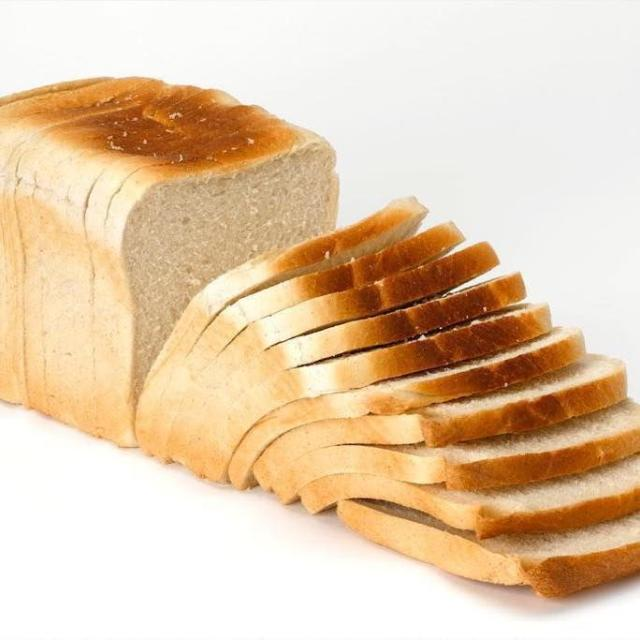sliced bread: (0, 77, 338, 446), (138, 230, 525, 480), (136, 205, 423, 443), (230, 328, 584, 489), (204, 305, 549, 444), (338, 501, 639, 596), (303, 455, 639, 538), (410, 355, 626, 446), (430, 400, 639, 489), (481, 356, 626, 432)
